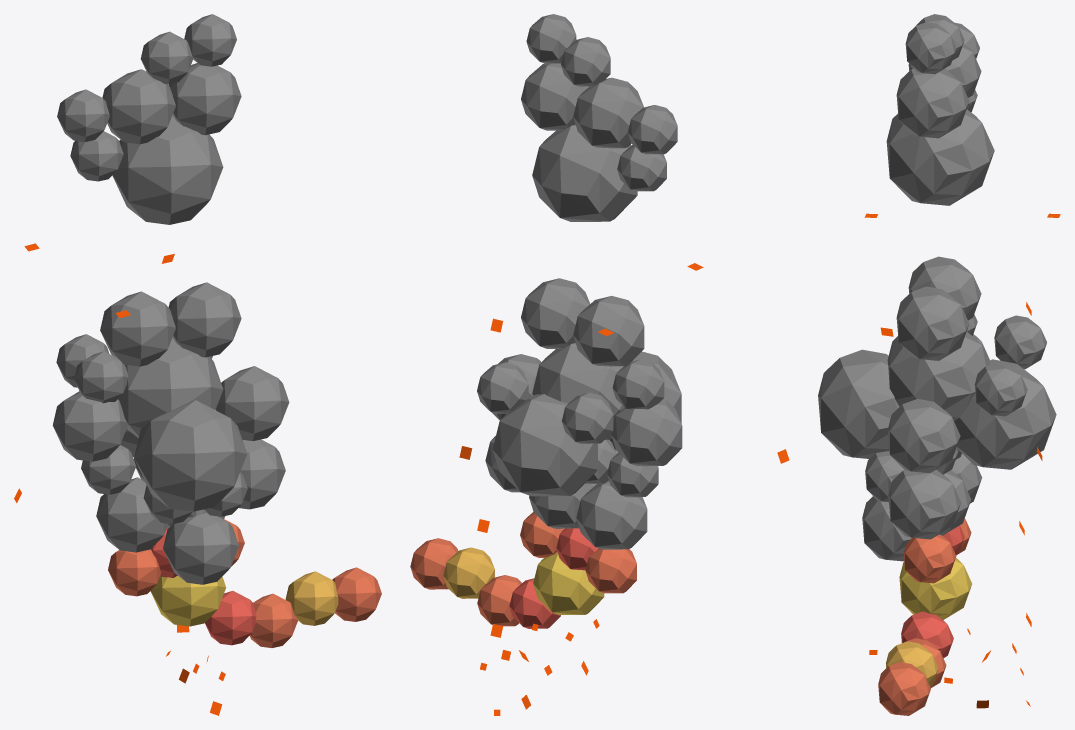
Rendered from 11 Fire.FBX.
3 views of the same model, side by side, from view 1: azimuth 30°, elevation 25°; view 2: azimuth 150°, elevation 25°; view 3: azimuth 270°, elevation 25° (orthographic).
Visible parts, largest first — view 1: Fire; view 2: Fire; view 3: Fire.
Boxes of the visible parts, bbox=[...] form: Fire: bbox=[14, 14, 381, 715]; Fire: bbox=[410, 14, 789, 715]; Fire: bbox=[818, 14, 1060, 715].
Size of the model in its own units: 1307 by 2295 by 739.
